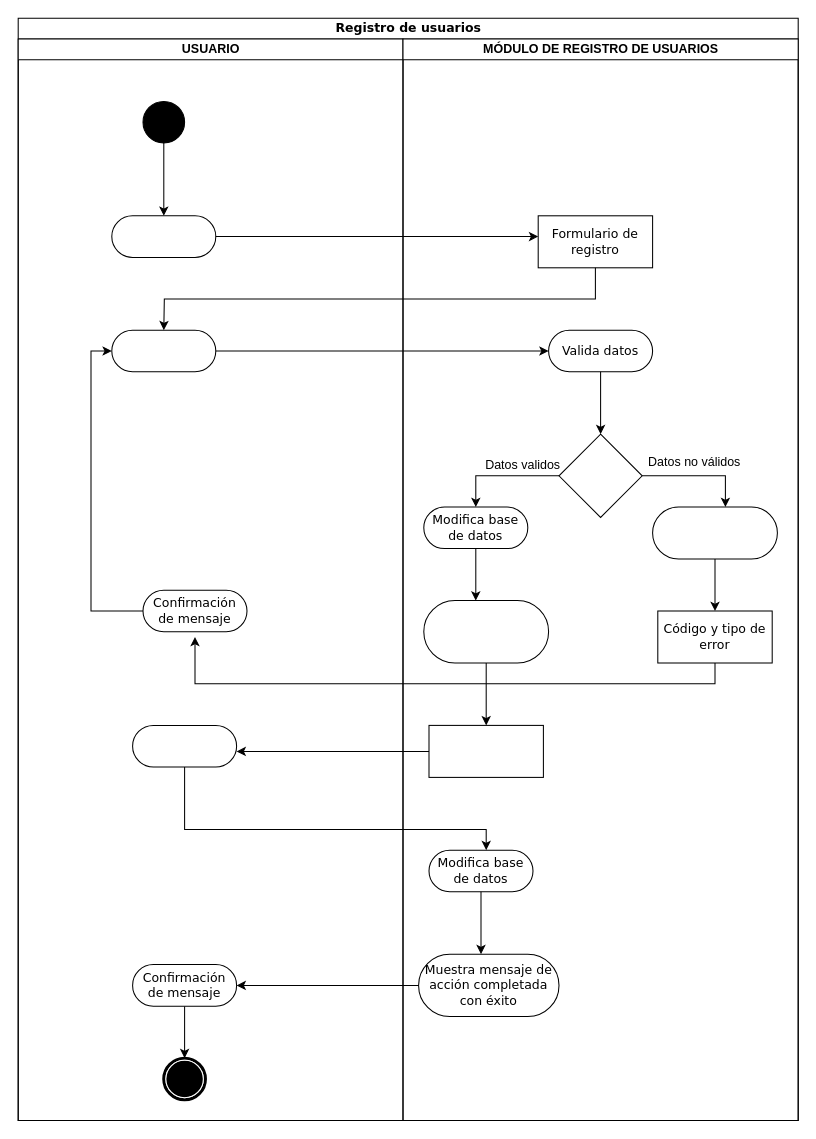
This 816x1139 diagram has some shape labels left out. The shapes that lost their labels are listed below. From the top down, each one's centre as x and y in pixels, then its label:
(163,236): Cliquea boton de registro
(163,350): Registra datos
(714,532): Muestra mensaje de error por datos inválidos
(486,631): Muestra mensaje de verificación de correo electrónico
(184,745): Click en link de verificación
(485,750): Link de verificación
